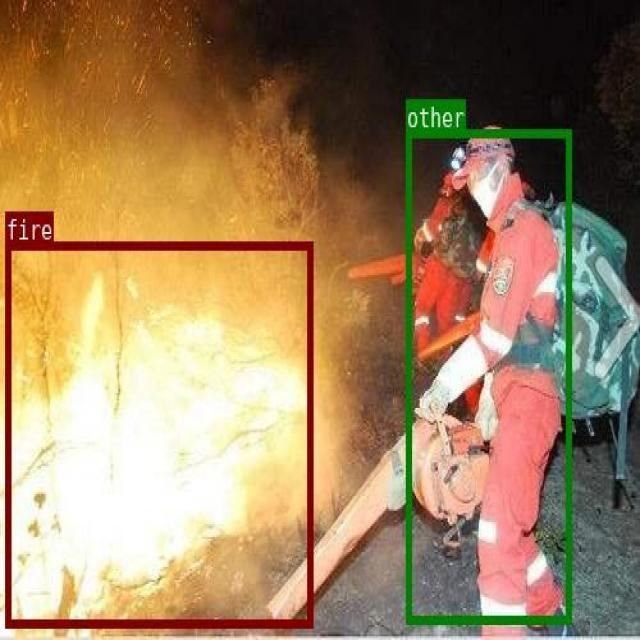fire: (4, 241, 312, 626)
